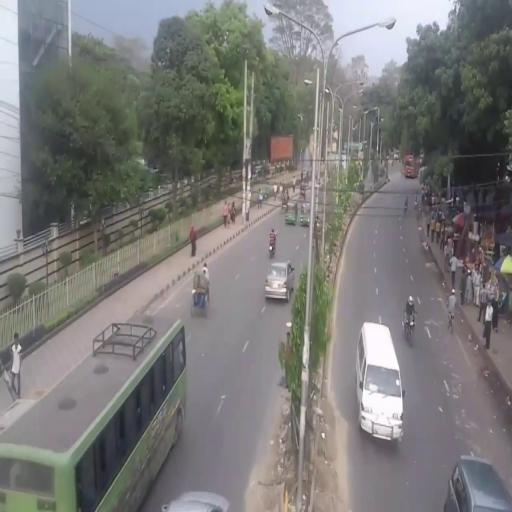bicycle: (446, 307, 457, 338)
bus: (1, 312, 192, 506)
car: (264, 256, 297, 306)
motorbike: (402, 313, 416, 350), (268, 224, 278, 262)
rickshaw: (190, 260, 213, 321)
three wheelers (CNG): (285, 201, 300, 228), (300, 202, 312, 229)
van: (354, 318, 407, 454)
